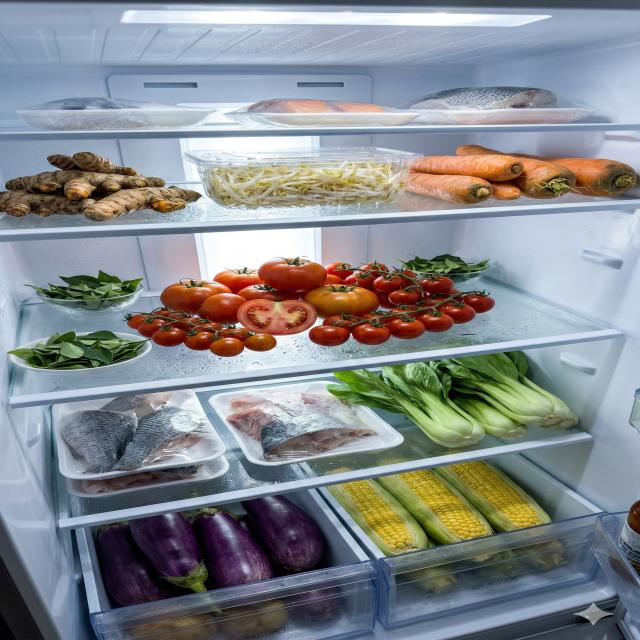bean_sprouts: (199, 160, 411, 210)
carrot: (406, 144, 638, 204)
corn: (326, 460, 553, 558)
curry_leaves: (6, 330, 153, 369), (22, 270, 144, 312), (394, 254, 490, 284)
eggplant: (97, 494, 326, 607)
fish: (60, 392, 201, 474), (225, 391, 377, 462), (409, 86, 558, 110), (248, 97, 387, 113)
pakchoy: (325, 350, 579, 448)
tomato: (122, 255, 496, 358)
turmeric: (0, 151, 203, 222)
